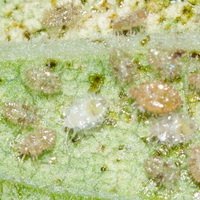insect: (130, 82, 182, 113), (25, 127, 56, 150)
